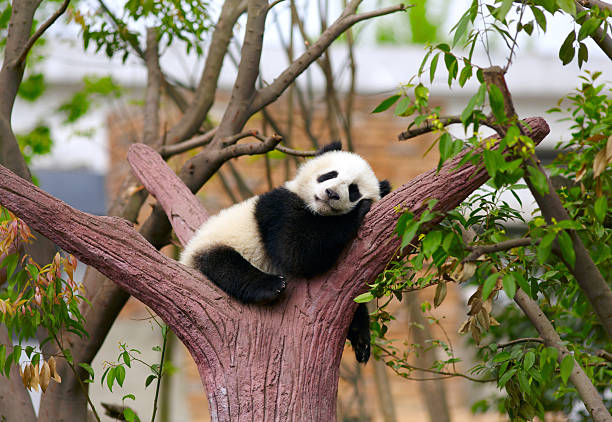panda: (273, 120, 407, 235)
